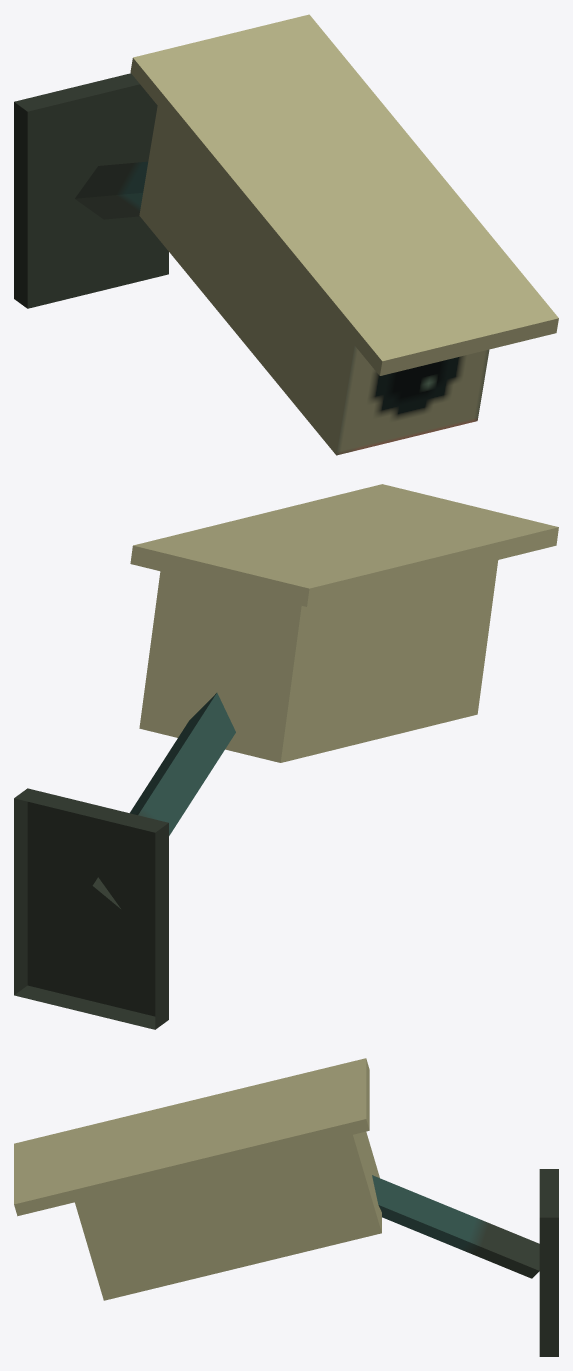
The model's file is SM_Forest_CCTV_20x60x30.fbx.
3 views of the same model, one above another, from view 1: azimuth 30°, elevation 25°; view 2: azimuth 150°, elevation 25°; view 3: azimuth 270°, elevation 25° (orthographic). The views are drawn at different scales.
Visible parts, largest first — view 1: SM_Forest_CCTV_20x60x30.001; view 2: SM_Forest_CCTV_20x60x30.001; view 3: SM_Forest_CCTV_20x60x30.001.
Part boxes in pixels (x1,y1,x2,y2): SM_Forest_CCTV_20x60x30.001: (14,14,558,455); SM_Forest_CCTV_20x60x30.001: (14,484,558,1029); SM_Forest_CCTV_20x60x30.001: (14,1058,558,1356).
Size of the model in its own units: 0.15 by 0.2805 by 0.5679.
